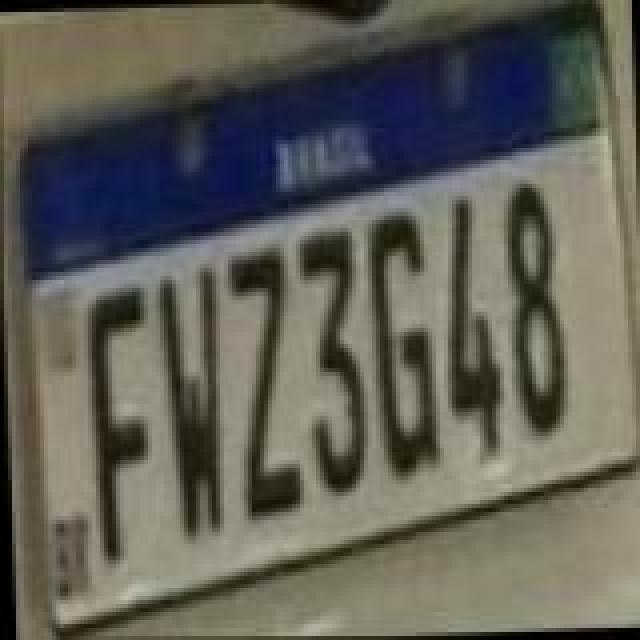3: (296, 228, 368, 504)
4: (434, 188, 498, 452)
8: (502, 180, 566, 436)
F: (82, 280, 154, 568)
G: (368, 210, 440, 486)
W: (154, 260, 222, 544)
Z: (222, 246, 298, 522)
